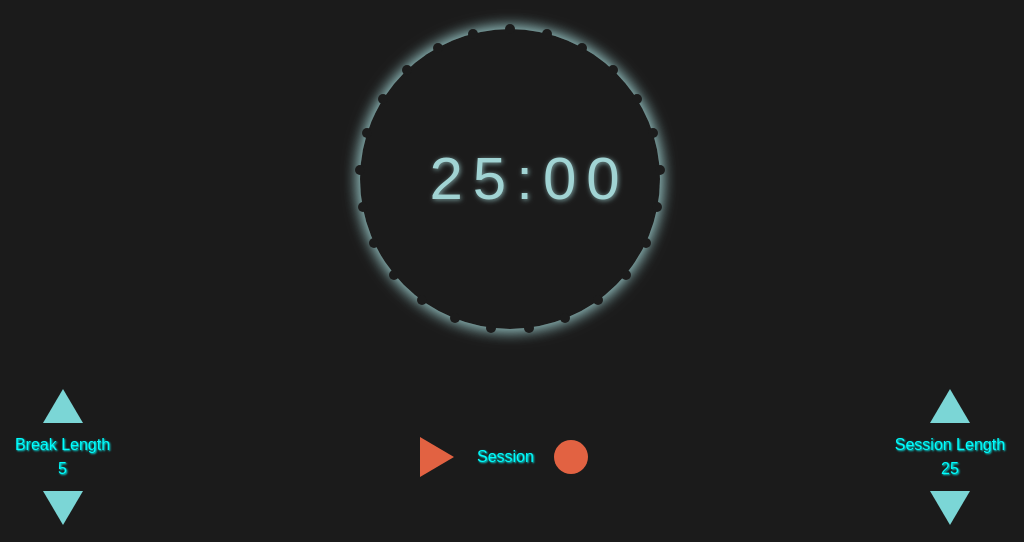
Test: When I click the element with the id of "session-decrement", the value within id="session-length" decrements by a value of 1, and I can see the updated value
Step 1. Click the element with id "session-decrement" → (950, 508), box [930,491,970,525]
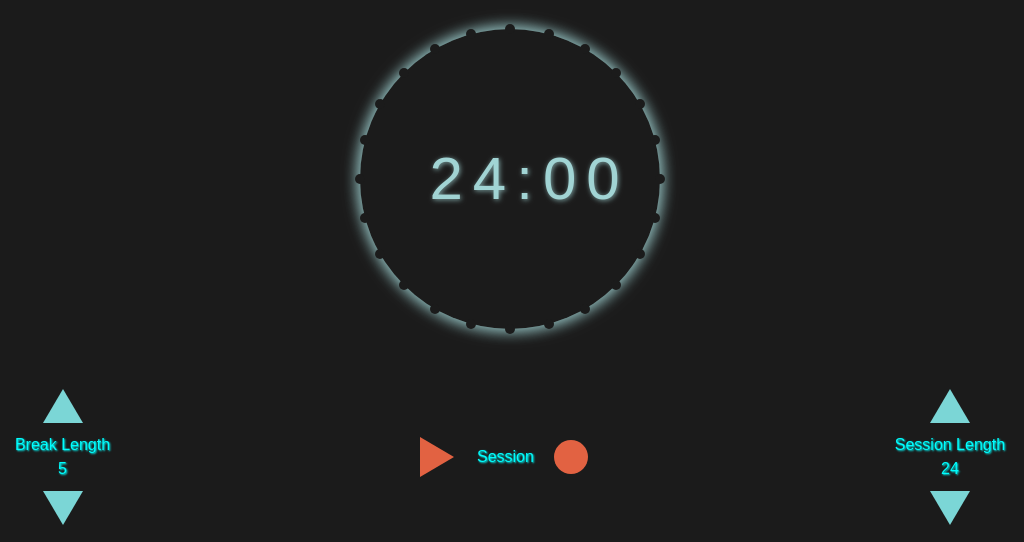
Result: the text with id "session-length" reads "24" at [941,460,959,477]
